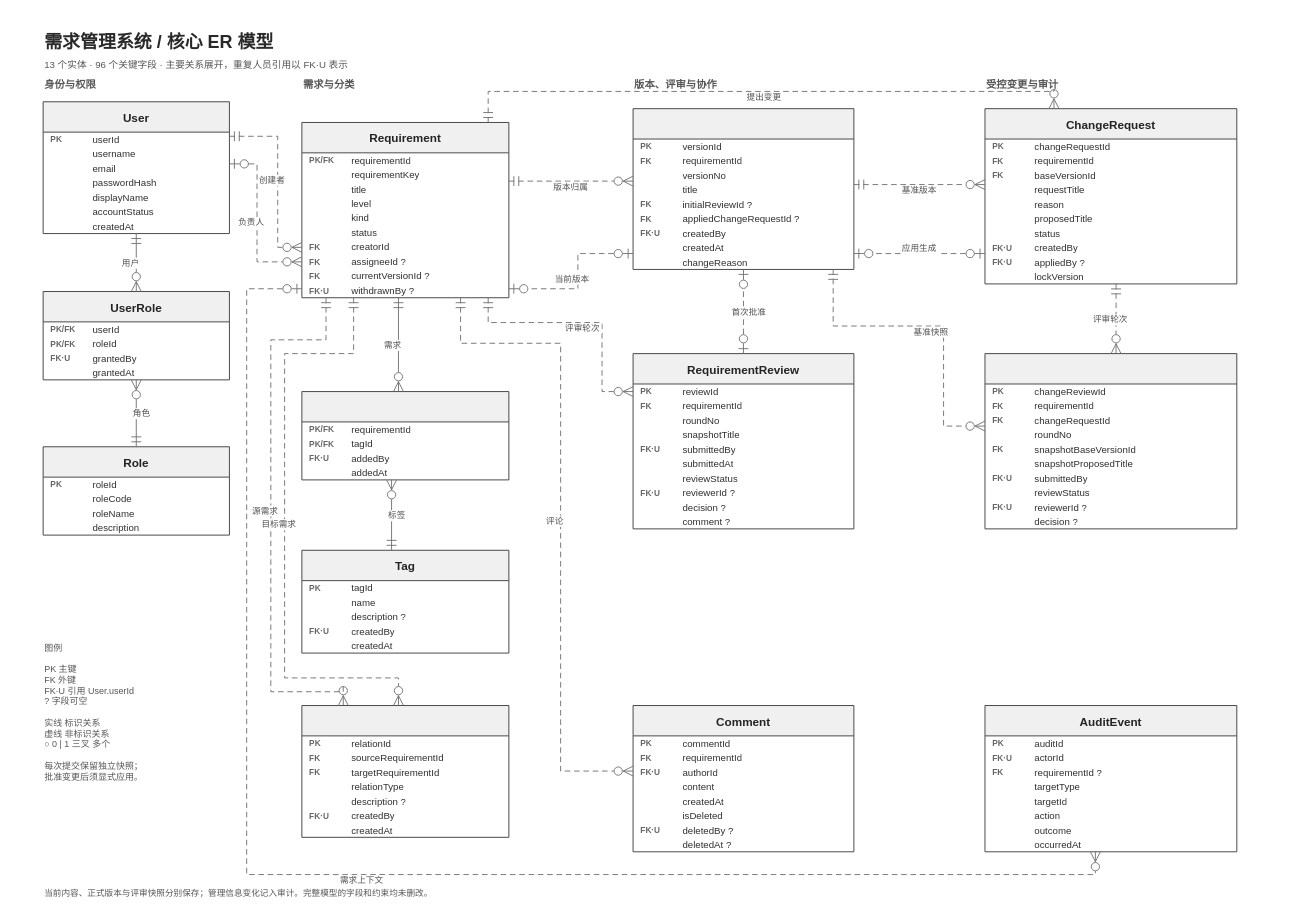
Some shapes in this 1293 by 921 pixel diagram are drawn without their labels. Each missing label, with the box of its shape:
ChangeRequestReview: (984, 353, 1237, 529)
RequirementRelation: (301, 705, 509, 837)
RequirementTag: (301, 391, 509, 480)
RequirementVersion: (632, 108, 854, 270)
